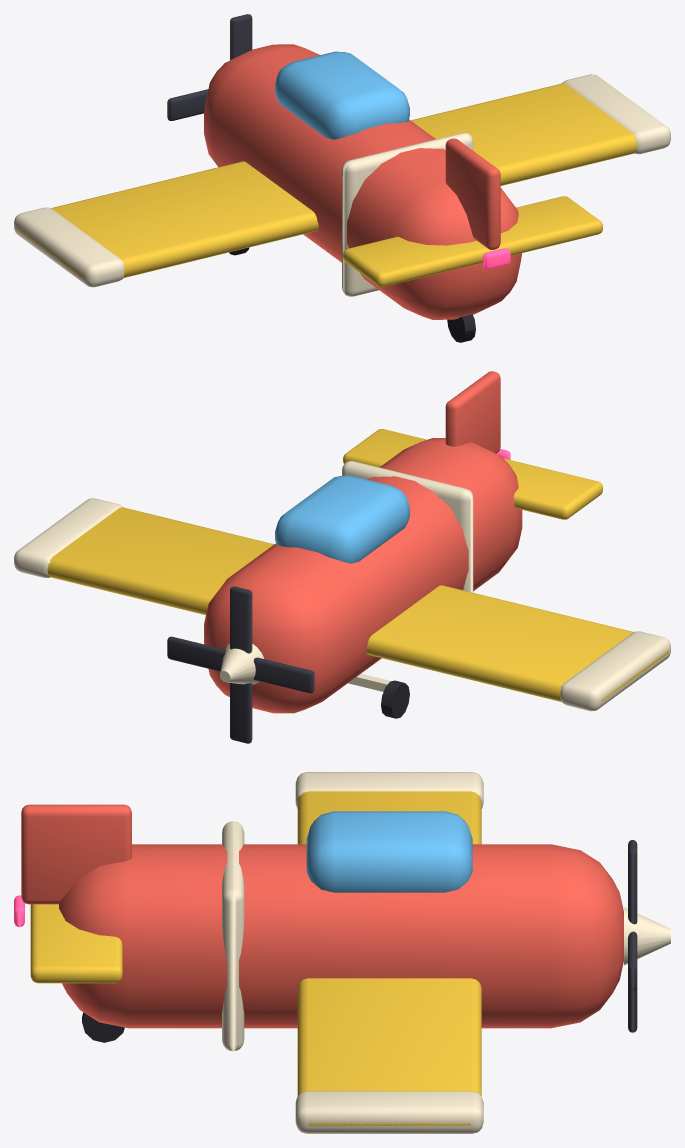
3 views of the same model, one above another, from view 1: azimuth 30°, elevation 25°; view 2: azimuth 150°, elevation 25°; view 3: azimuth 270°, elevation 25° (orthographic). The views are drawn at different scales.
Parts seen in each view (by area): view 1: body, propeller; view 2: body, propeller; view 3: body, propeller.
Boxes of the visible parts, left/top/right/bottom form: body: left=14, top=44, right=670, bottom=342; propeller: left=167, top=14, right=252, bottom=120; body: left=14, top=371, right=670, bottom=718; propeller: left=167, top=586, right=314, bottom=743; body: left=14, top=772, right=623, bottom=1133; propeller: left=624, top=840, right=670, bottom=1032.
Bounding box in the file's own units: 4.4 × 1.4 × 3.57.
